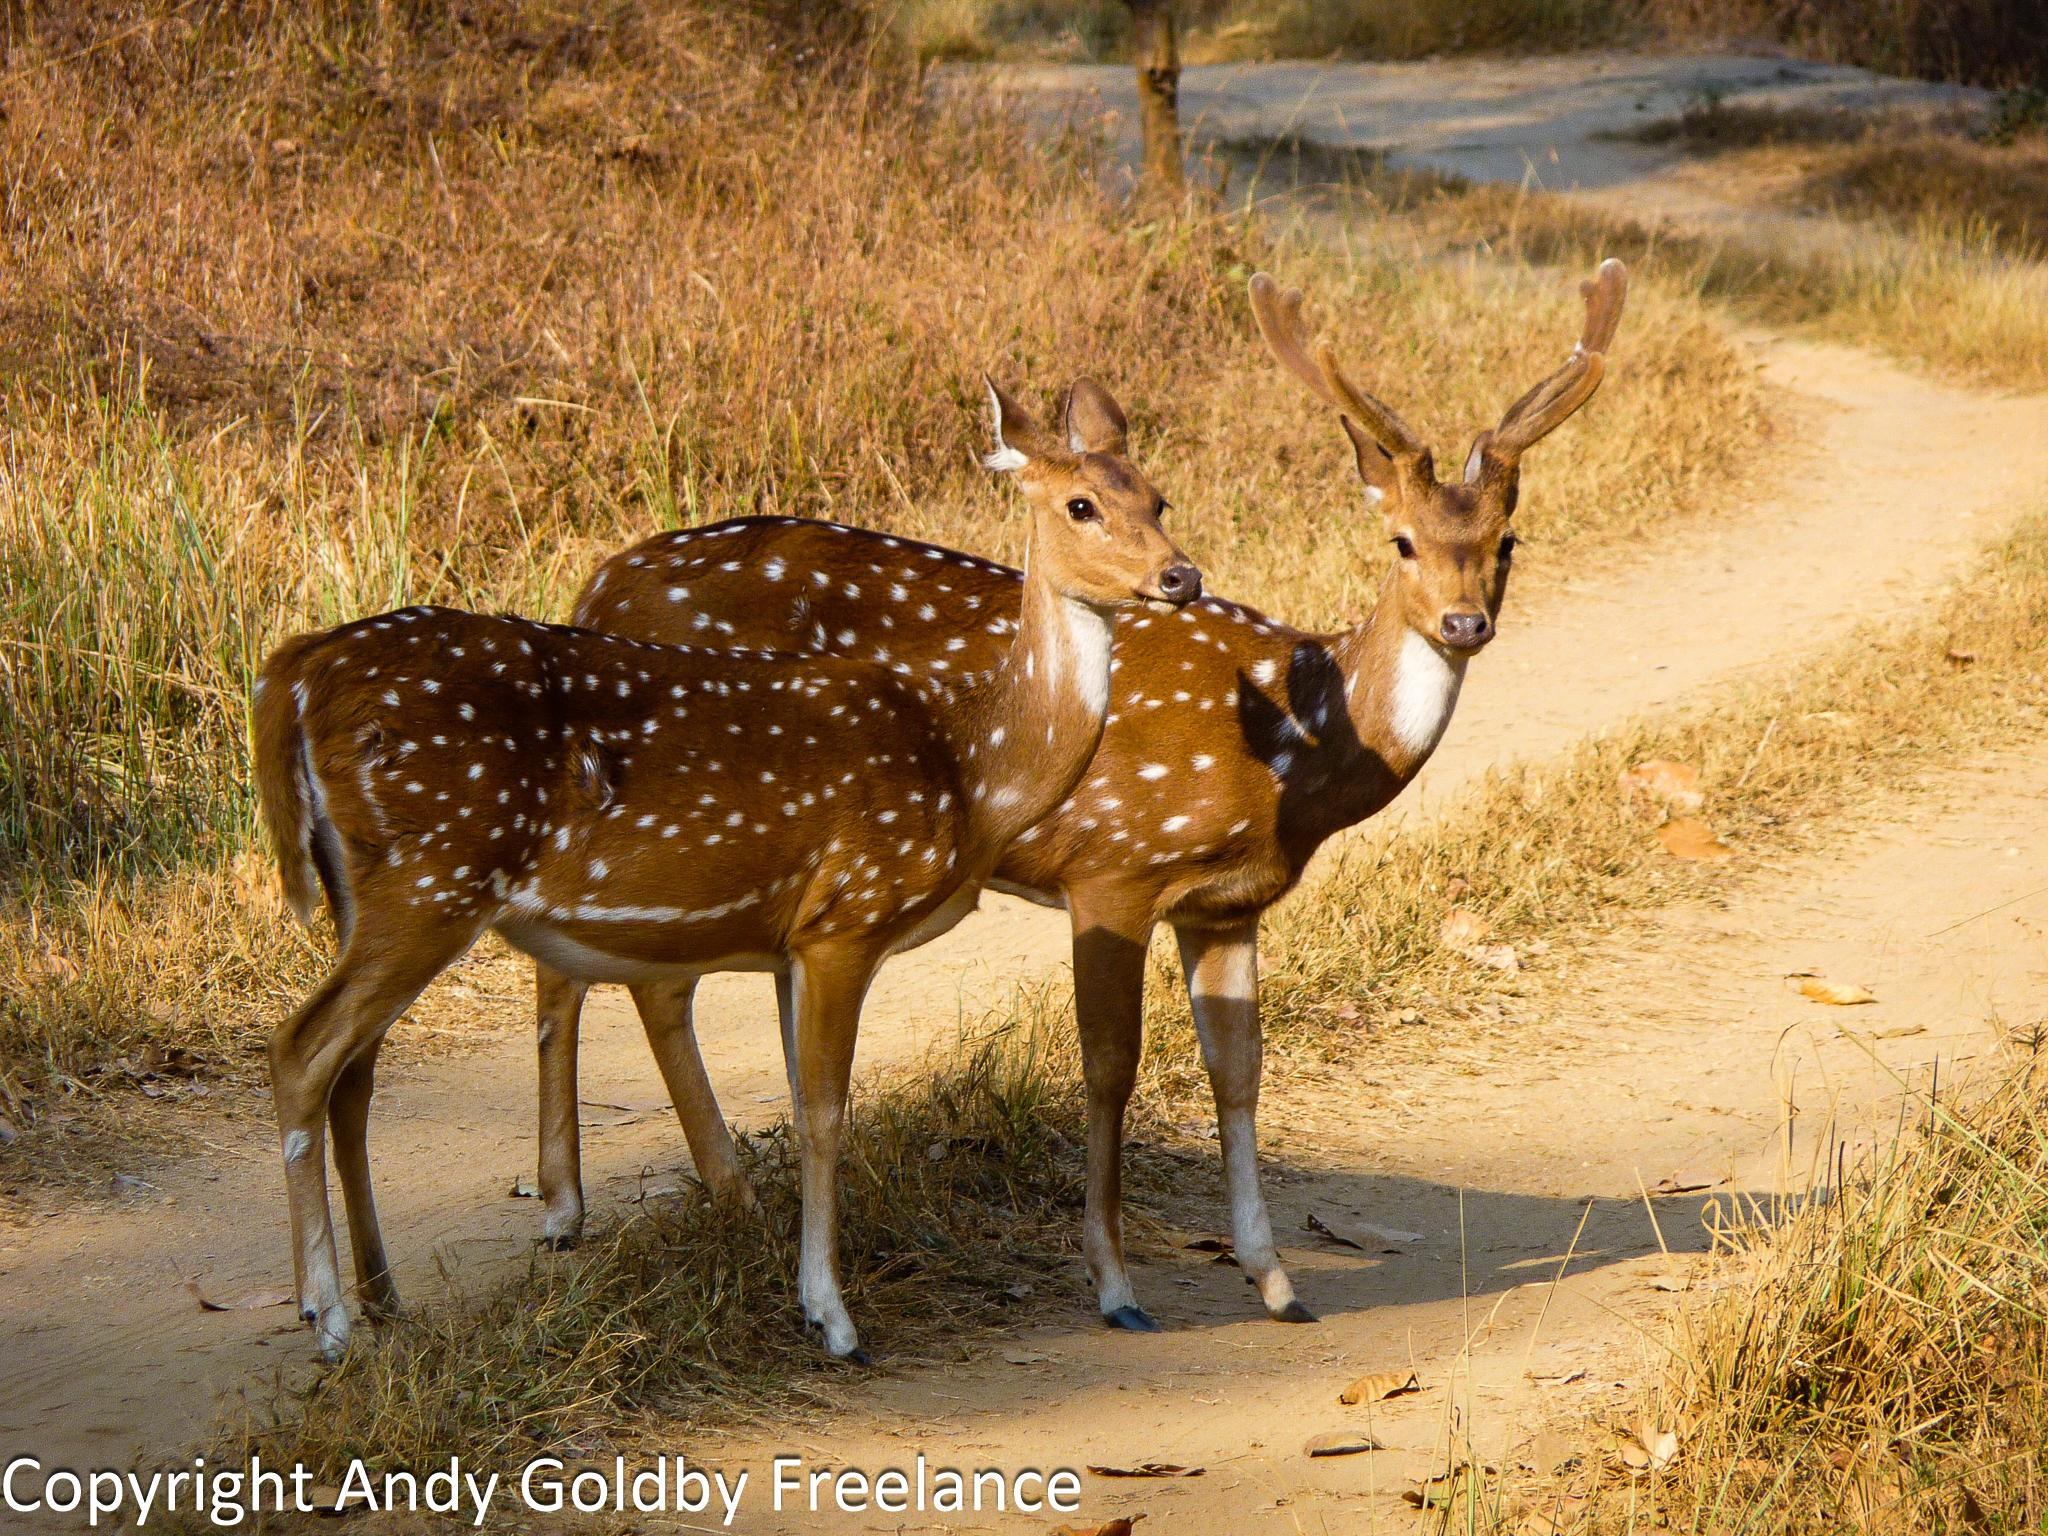Deer: (255, 381, 1200, 1357), (987, 260, 1625, 1329)
